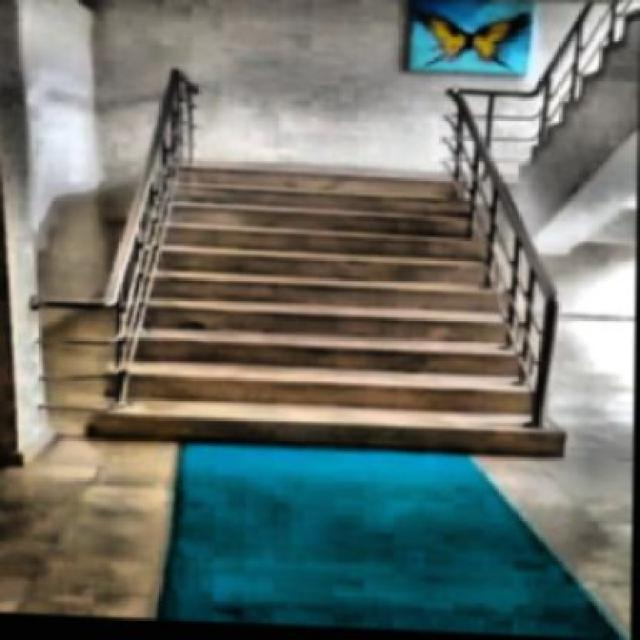stair: (95, 163, 574, 465)
